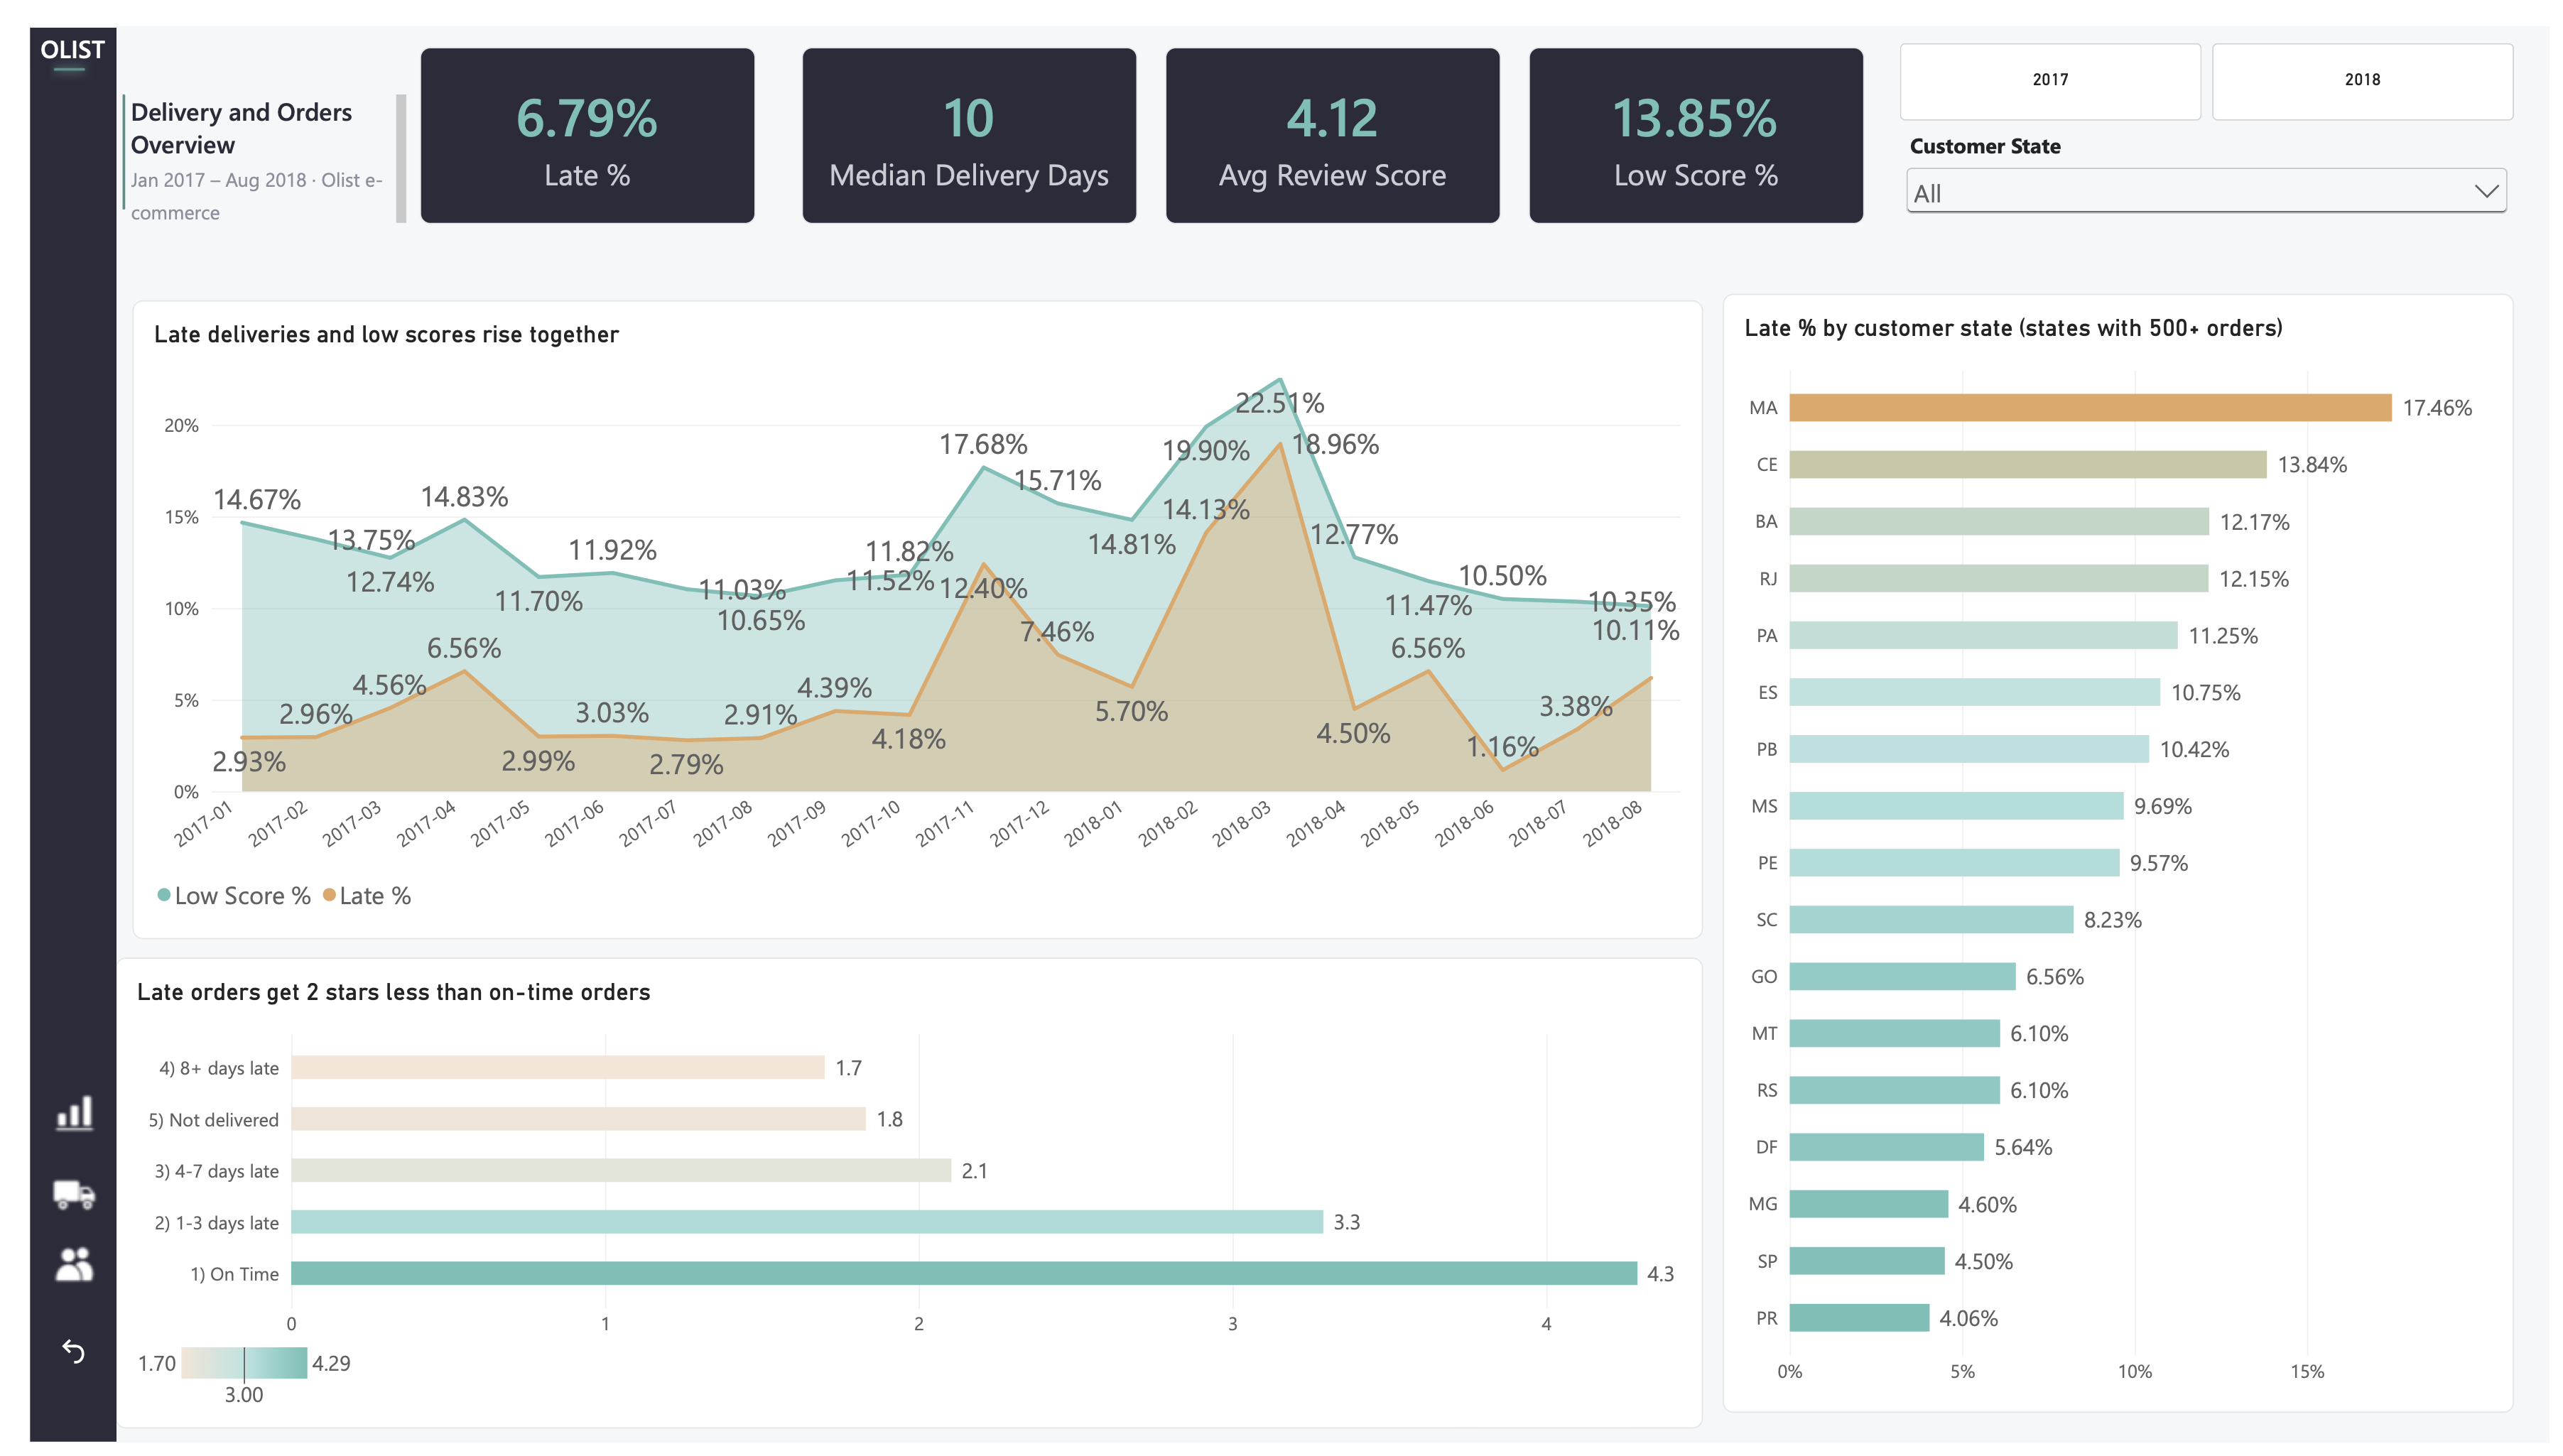

What the dashboard file says about the page in this screenshot:
{"tool":"powerbi","page":{"name":"Delivery and Orders","canvas":[1920,1080],"ordinal":1},"visuals":[{"type":"card","fields":{"Values":["_Measures.Late %"]},"box":[297.5,16,256,135],"z":0},{"type":"card","fields":{"Values":["_Measures.Median Delivery Days"]},"box":[588,16,256,135],"z":1000},{"type":"card","fields":{"Values":["_Measures.Avg Review Score"]},"box":[864.5,16,256,135],"z":2000},{"type":"lineChart","title":"Late deliveries and low scores rise together","fields":{"Category":["Calendar.Year-Month"],"Y":["_Measures.Low Score %","_Measures.Late %"]},"box":[77.5,209,1197.8,486.5],"z":3000},{"type":"clusteredBarChart","title":"Late orders get 2 stars less than on-time orders","fields":{"Category":["fact_orders.Delay Bucket"],"Y":["_Measures.Avg Review Score"]},"box":[65.2,710.1,1210.1,358.4],"z":4000},{"type":"barChart","title":"Late % by customer state (states with 500+ orders)","fields":{"Category":["dim_customers.customer_state"],"Y":["_Measures.Late %"]},"box":[1289.9,204.5,603.4,852.8],"z":5000},{"type":"textbox","box":[77.4,51.6,210,99.5],"z":6000},{"type":"card","fields":{"Values":["_Measures.Low Score %"]},"box":[1142.2,16,256,135],"z":7000},{"type":"advancedSlicerVisual","fields":{"Values":["Calendar.Year"]},"box":[1424.6,12.8,468.3,59.3],"z":8000},{"type":"slicer","fields":{"Values":["dim_customers.customer_state"]},"box":[1424.6,80.2,468.3,70.9],"z":9000},{"type":"shape","box":[0,1.1,65.6,1078.2],"z":10000},{"type":"textbox","box":[0,4.5,65.6,134.6],"z":11000},{"type":"actionButton","box":[0,799.5,65.1,54],"z":12000},{"type":"actionButton","box":[0,862.2,65.1,54],"z":13000},{"type":"actionButton","box":[0,916.2,65.1,54],"z":14000},{"type":"actionButton","box":[0,980.1,65.1,59],"z":15000},{"type":"shape","box":[9.8,4.9,40.5,56.5],"z":16000},{"type":"shape","box":[50.4,51.6,43,88.4],"z":17000}]}

Visuals, with their boxes on the page's 1920x1080 design canvas (x1, y1, x2, y2). These are canvas units, not pixel positions in the 2563x1456 screenshot, which may show the page scaled, cropped or inside an application window:
card - _Measures.Late %: pyautogui.locateOnScreen(298, 16, 554, 151)
card - _Measures.Median Delivery Days: pyautogui.locateOnScreen(588, 16, 844, 151)
card - _Measures.Avg Review Score: pyautogui.locateOnScreen(864, 16, 1120, 151)
"Late deliveries and low scores rise together" lineChart: pyautogui.locateOnScreen(78, 209, 1275, 696)
"Late orders get 2 stars less than on-time orders" clusteredBarChart: pyautogui.locateOnScreen(65, 710, 1275, 1068)
"Late % by customer state (states with 500+ orders)" barChart: pyautogui.locateOnScreen(1290, 204, 1893, 1057)
textbox: pyautogui.locateOnScreen(77, 52, 287, 151)
card - _Measures.Low Score %: pyautogui.locateOnScreen(1142, 16, 1398, 151)
advancedSlicerVisual - Calendar.Year: pyautogui.locateOnScreen(1425, 13, 1893, 72)
slicer - dim_customers.customer_state: pyautogui.locateOnScreen(1425, 80, 1893, 151)
shape: pyautogui.locateOnScreen(0, 1, 66, 1079)
textbox: pyautogui.locateOnScreen(0, 4, 66, 139)
actionButton: pyautogui.locateOnScreen(0, 800, 65, 854)
actionButton: pyautogui.locateOnScreen(0, 862, 65, 916)
actionButton: pyautogui.locateOnScreen(0, 916, 65, 970)
actionButton: pyautogui.locateOnScreen(0, 980, 65, 1039)
shape: pyautogui.locateOnScreen(10, 5, 50, 61)
shape: pyautogui.locateOnScreen(50, 52, 93, 140)
